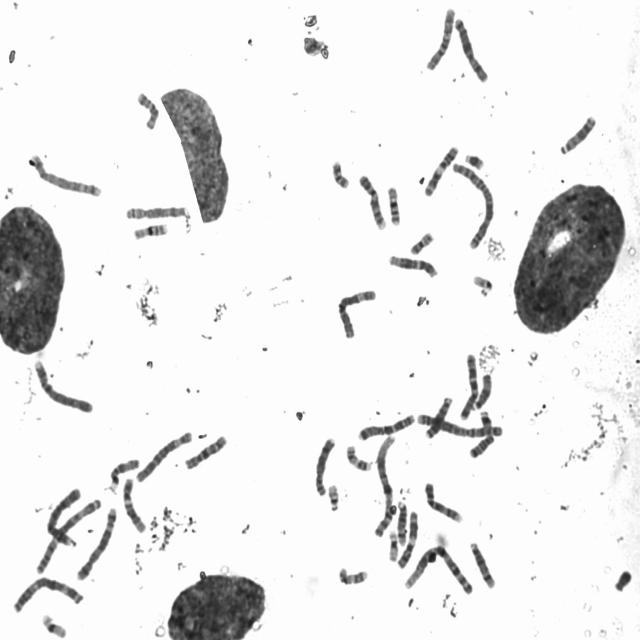A1: (404, 545, 473, 595), (374, 433, 396, 538)
A2: (452, 162, 494, 250), (417, 414, 502, 438)
A3: (36, 498, 102, 575), (13, 577, 84, 612)
B4: (34, 360, 92, 413), (46, 488, 81, 546)
B5: (29, 154, 102, 198), (76, 507, 117, 580)
C10: (426, 8, 456, 71), (185, 435, 227, 469)
C11: (424, 146, 459, 196), (397, 511, 419, 568)
C12: (122, 478, 146, 534), (389, 255, 438, 277)
C6: (135, 432, 192, 482), (338, 290, 376, 338)
C7: (358, 414, 416, 442), (460, 353, 479, 420)
C8: (315, 438, 336, 497), (126, 207, 188, 220)
C9: (424, 483, 464, 523), (359, 174, 387, 230)
D13: (560, 116, 596, 154), (424, 396, 453, 439)
D14: (470, 542, 496, 589), (397, 500, 407, 546)
D15: (104, 459, 140, 494), (470, 373, 492, 411)
E16: (134, 222, 167, 240), (388, 186, 400, 226)
E17: (346, 445, 373, 472), (338, 567, 368, 585)
E18: (137, 93, 159, 130), (469, 436, 495, 458)
F19: (42, 614, 66, 638), (388, 530, 399, 562)
F20: (410, 232, 434, 255), (332, 160, 349, 189)
G21: (479, 411, 493, 436), (465, 154, 484, 170)
G22: (473, 276, 493, 298), (328, 484, 339, 512)
X: (454, 18, 488, 83)
Y: (614, 570, 632, 591)
